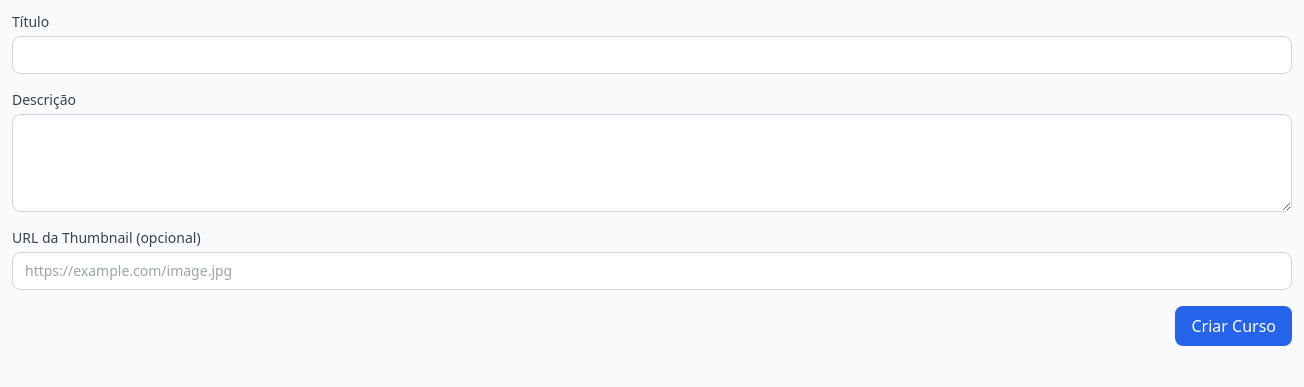
Test: CourseForm › deve exibir erro para descrição curta
The image size is (1304, 387).
Step 1. Type "Curso" into the field labelled "Título" → coordinates (652, 55), box [12,36,1292,74]
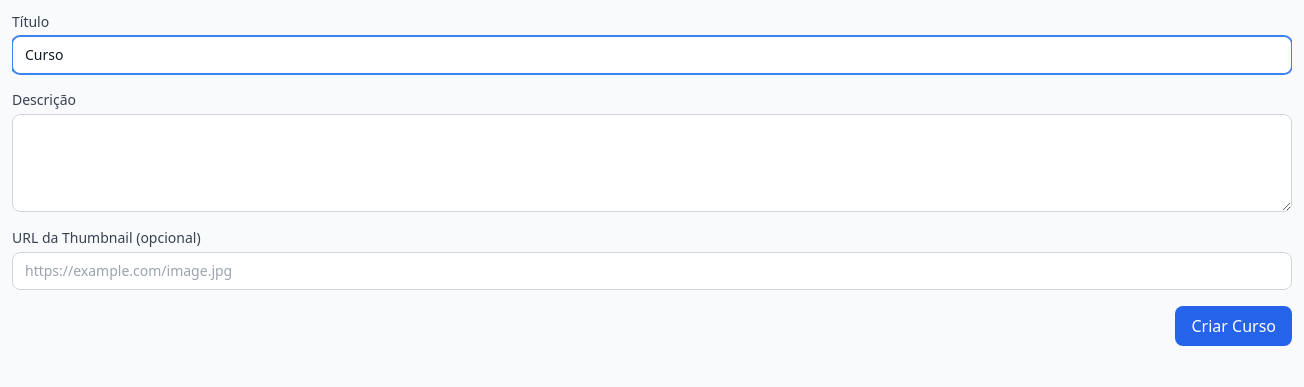
Step 2. Type "Curta" into the text box labelled "Descrição" → coordinates (652, 163), box [12,114,1292,212]
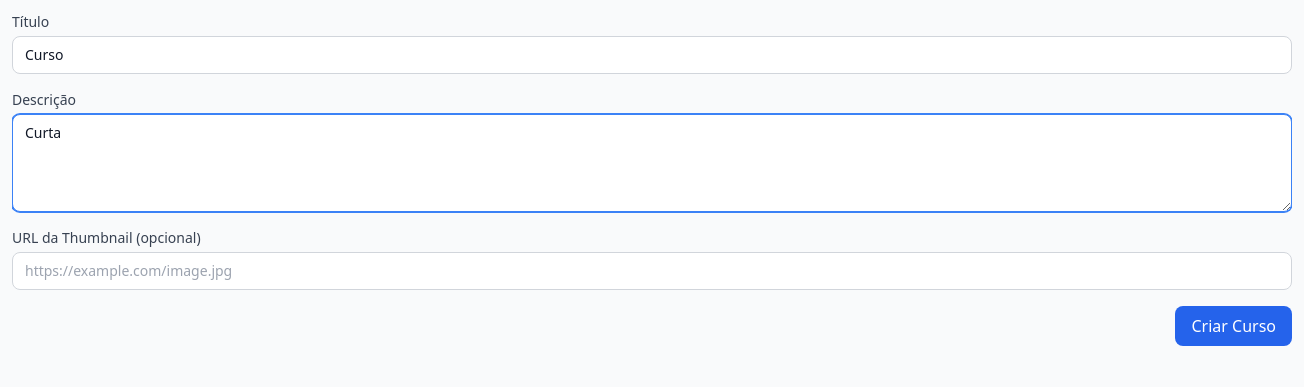
Step 3. Click the button "Criar Curso" → coordinates (1234, 326), box [1176,306,1292,346]
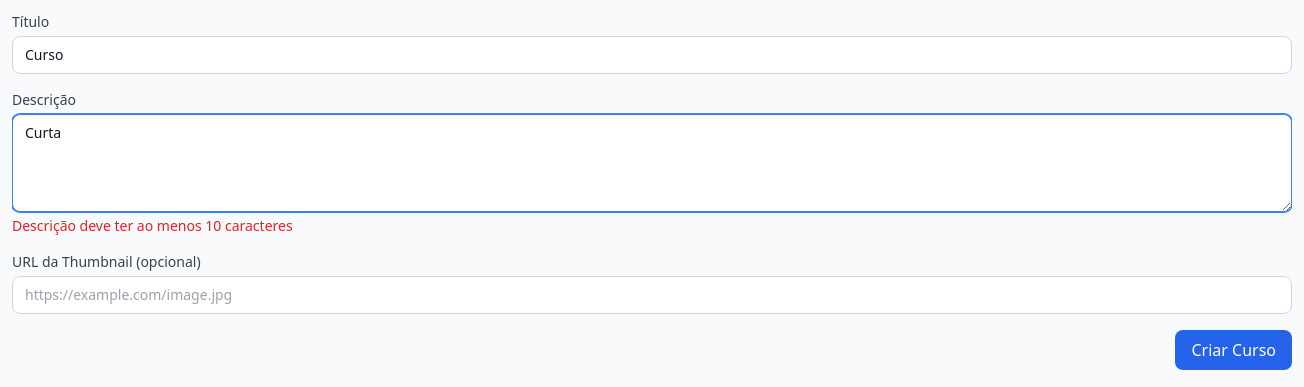
Check: the text "Descrição deve ter ao menos 10 caracteres" is shown, box [12,216,293,235]
